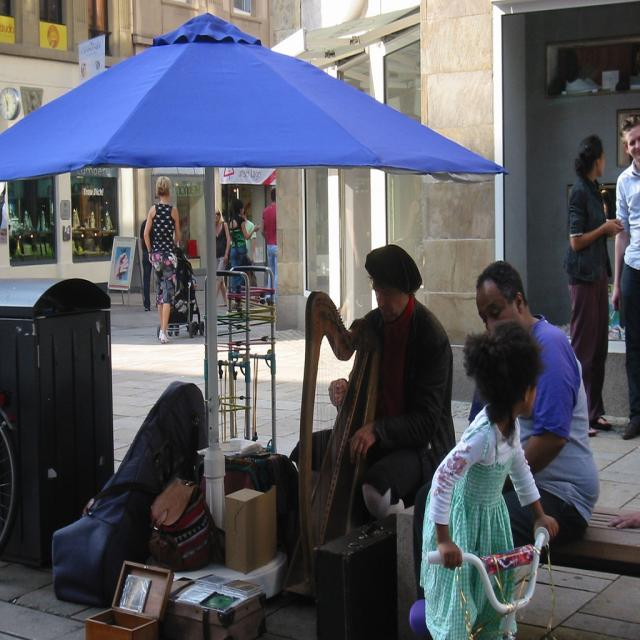harp: (294, 290, 385, 560)
